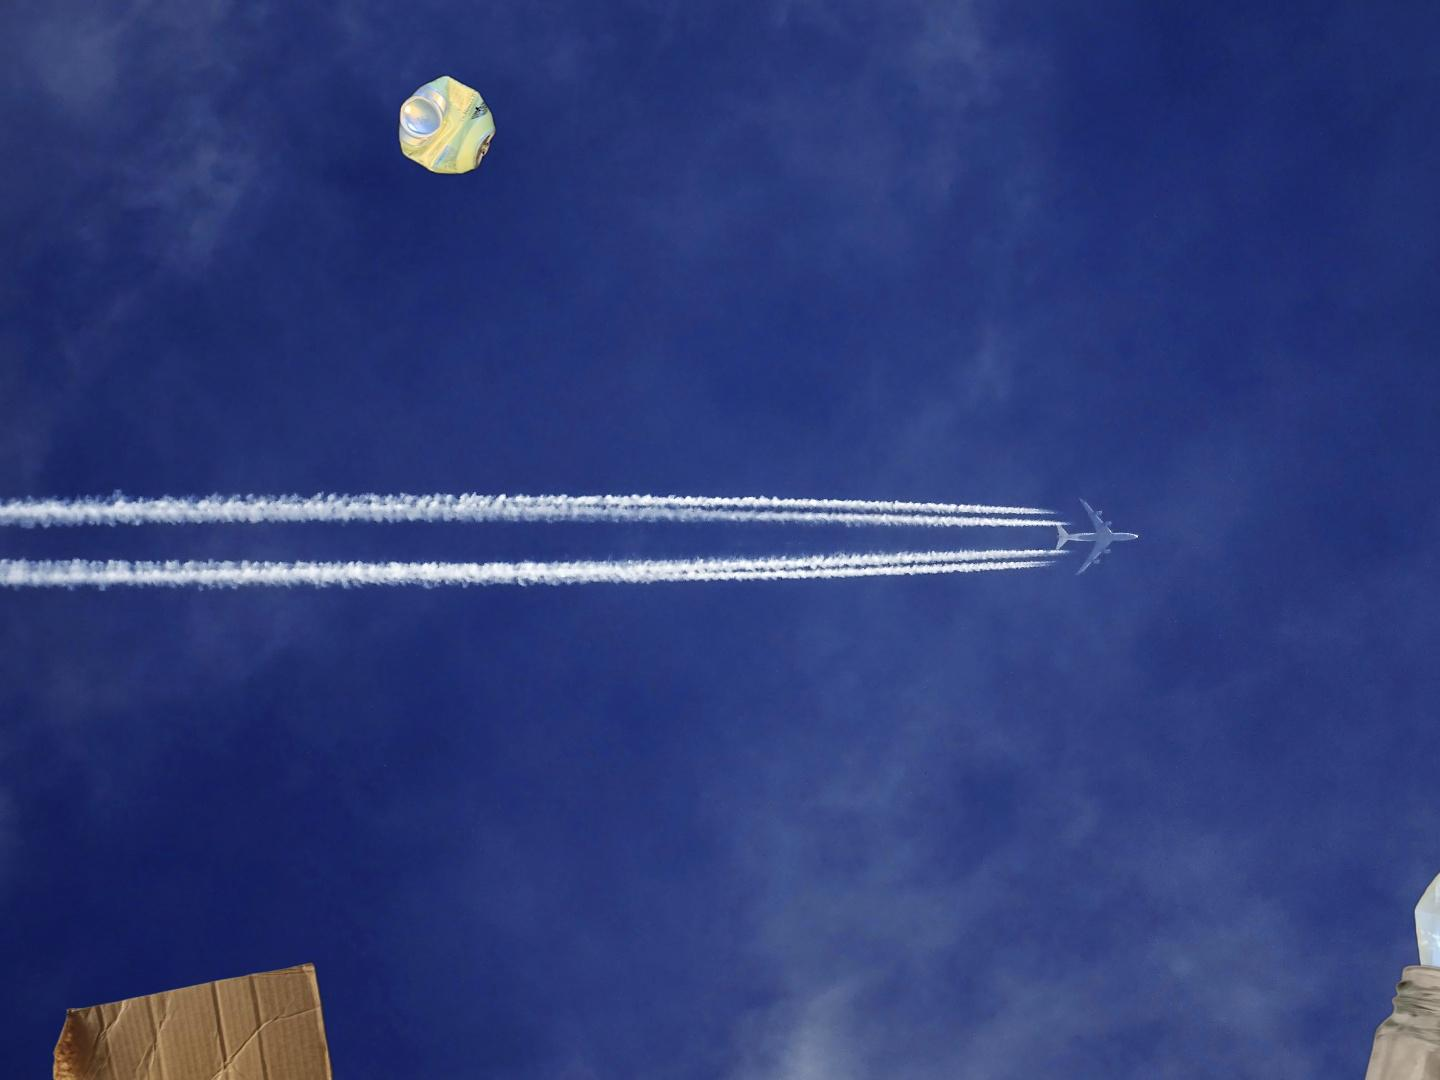glass: (1325, 963, 1440, 1080)
metal-cans: (393, 69, 500, 182)
plastic-bottles: (1409, 833, 1440, 997)
trashbox-cardboard: (48, 960, 351, 1080)
